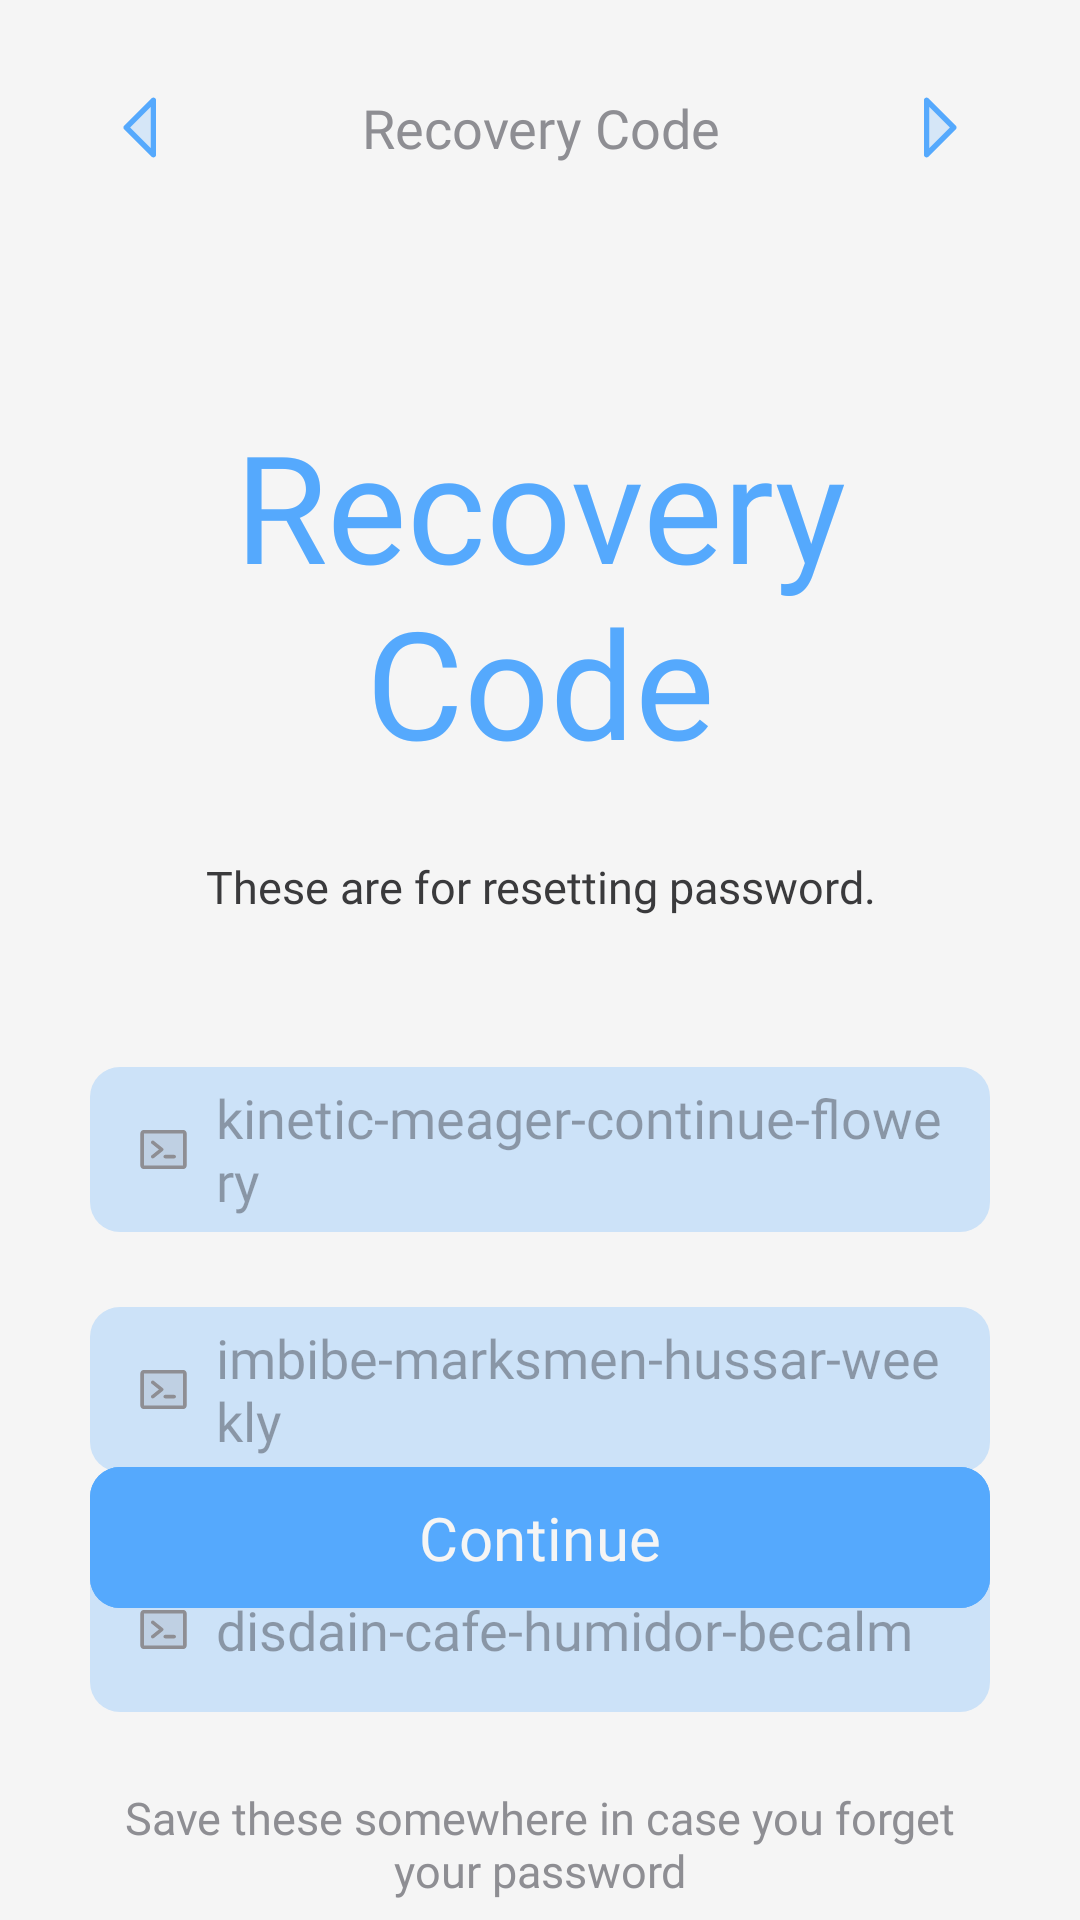

Locate icon controls on the screen. Image size 1080*1920, boxes as (x1, y1, x2, y2).
arrow left: (123, 97, 156, 158)
arrow right: (924, 97, 957, 158)
